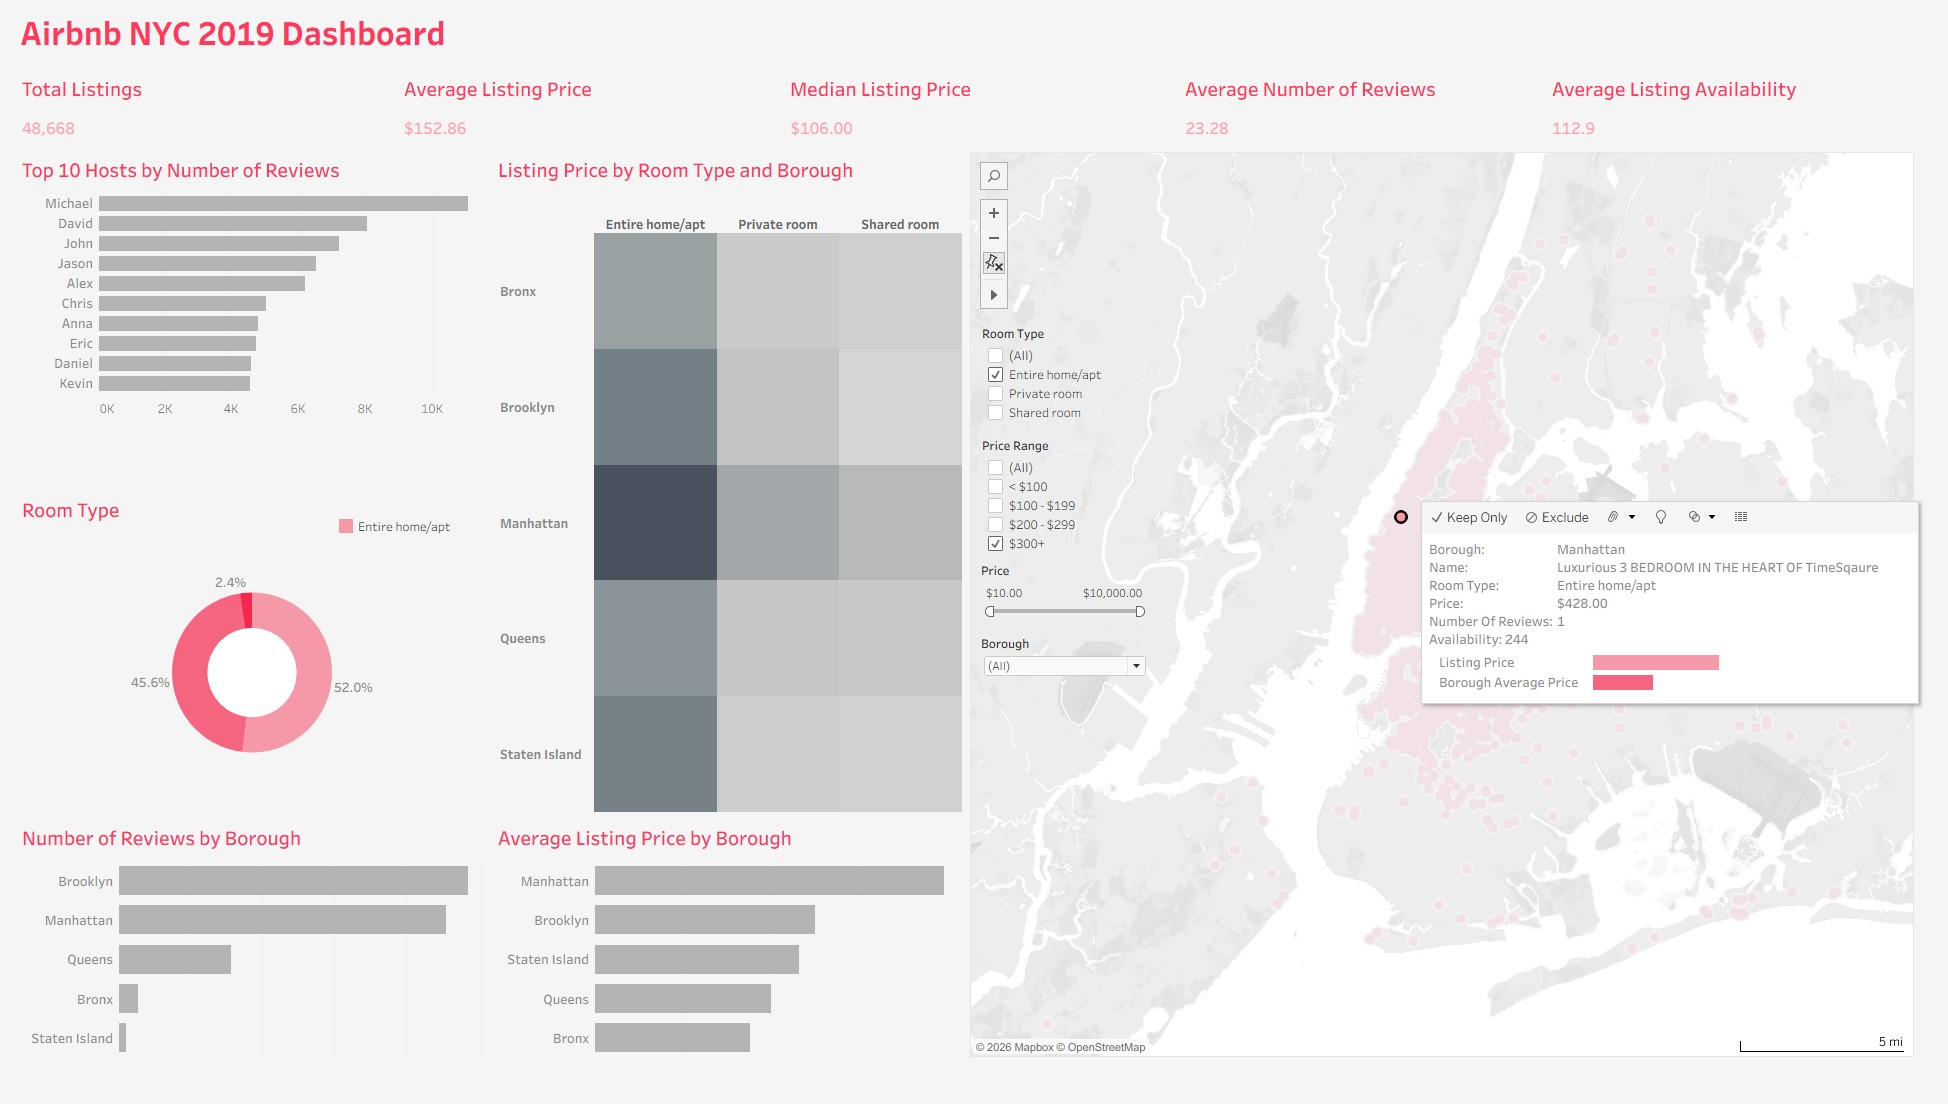

The page's visual inventory and layout, read from the dashboard file:
{"tool":"tableau","page":{"name":"Dashboard 1","canvas":[1920,1080],"ordinal":0},"visuals":[{"type":"text","box":[8,8,1904,70]},{"type":"worksheet","title":"KPItotallistings","mark":"Automatic","box":[8,78,382,81.3]},{"type":"worksheet","title":"KPIavgprice","mark":"Automatic","box":[390,78,386,81.3]},{"type":"worksheet","title":"KPImedprice","mark":"Automatic","box":[776,78,395,81.3]},{"type":"worksheet","title":"KPIavgreviews","mark":"Automatic","box":[1171,78,367,81.3]},{"type":"worksheet","title":"KPIavgavailability","mark":"Automatic","box":[1538,78,374,81.3]},{"type":"worksheet","title":"Barhostsbyreviews","mark":"Automatic","rows":["host_name"],"cols":["number_of_reviews"],"box":[8,159.3,475.9,339.7]},{"type":"worksheet","title":"Heatmaptypebyborough","mark":"Automatic","rows":["neighbourhood_group"],"cols":["room_type"],"box":[484,159.3,476,668]},{"type":"worksheet","title":"Maplistings","mark":"Circle","rows":["latitude"],"cols":["longitude"],"box":[960,159.3,952,912.7]},{"type":"filter","title":"Maplistings","param":"[federated.145yd0z09dek1p122aieh1rym9jb].[none:room_type:nk]","box":[976,336,168,108]},{"type":"filter","title":"Maplistings","param":"[federated.145yd0z09dek1p122aieh1rym9jb].[none:Calculation_22804734207377409:nk]","box":[976,448,168,119]},{"type":"worksheet","title":"Donutroomtype","mark":"Pie","rows":["Calculation_0862293583007744","Calculation_0862293583007744"],"box":[8,499,475.9,328.2]},{"type":"legend","title":"Maplistings","param":"[federated.145yd0z09dek1p122aieh1rym9jb].[none:room_type:nk]","box":[330,509,140,82]},{"type":"filter","title":"Maplistings","param":"[federated.145yd0z09dek1p122aieh1rym9jb].[none:price:qk]","box":[975,573,168,69]},{"type":"filter","title":"Maplistings","param":"[federated.145yd0z09dek1p122aieh1rym9jb].[none:neighbourhood_group:nk]","box":[975,646,168,52]},{"type":"worksheet","title":"Barreviewsbyborough","mark":"Automatic","rows":["neighbourhood_group"],"cols":["number_of_reviews"],"box":[8,827.2,475.9,244.8]},{"type":"worksheet","title":"Barpricebyborough","mark":"Automatic","rows":["neighbourhood_group"],"cols":["price"],"box":[484,827.2,476,244.8]}]}

Visuals, with their boxes in screenshot pixels (x1, y1, x2, y2), scaled from the page's 1920x1080 canvas onto the 1948x1104 screenshot:
text: bbox(8, 8, 1940, 80)
"KPItotallistings" worksheet: bbox(8, 80, 396, 163)
"KPIavgprice" worksheet: bbox(396, 80, 787, 163)
"KPImedprice" worksheet: bbox(787, 80, 1188, 163)
"KPIavgreviews" worksheet: bbox(1188, 80, 1560, 163)
"KPIavgavailability" worksheet: bbox(1560, 80, 1940, 163)
"Barhostsbyreviews" worksheet: bbox(8, 163, 491, 510)
"Heatmaptypebyborough" worksheet: bbox(491, 163, 974, 846)
"Maplistings" worksheet (Circle marks): bbox(974, 163, 1940, 1096)
"Maplistings" filter: bbox(990, 343, 1161, 454)
"Maplistings" filter: bbox(990, 458, 1161, 580)
"Donutroomtype" worksheet (Pie marks): bbox(8, 510, 491, 846)
"Maplistings" legend: bbox(335, 520, 477, 604)
"Maplistings" filter: bbox(989, 586, 1160, 656)
"Maplistings" filter: bbox(989, 660, 1160, 714)
"Barreviewsbyborough" worksheet: bbox(8, 846, 491, 1096)
"Barpricebyborough" worksheet: bbox(491, 846, 974, 1096)
